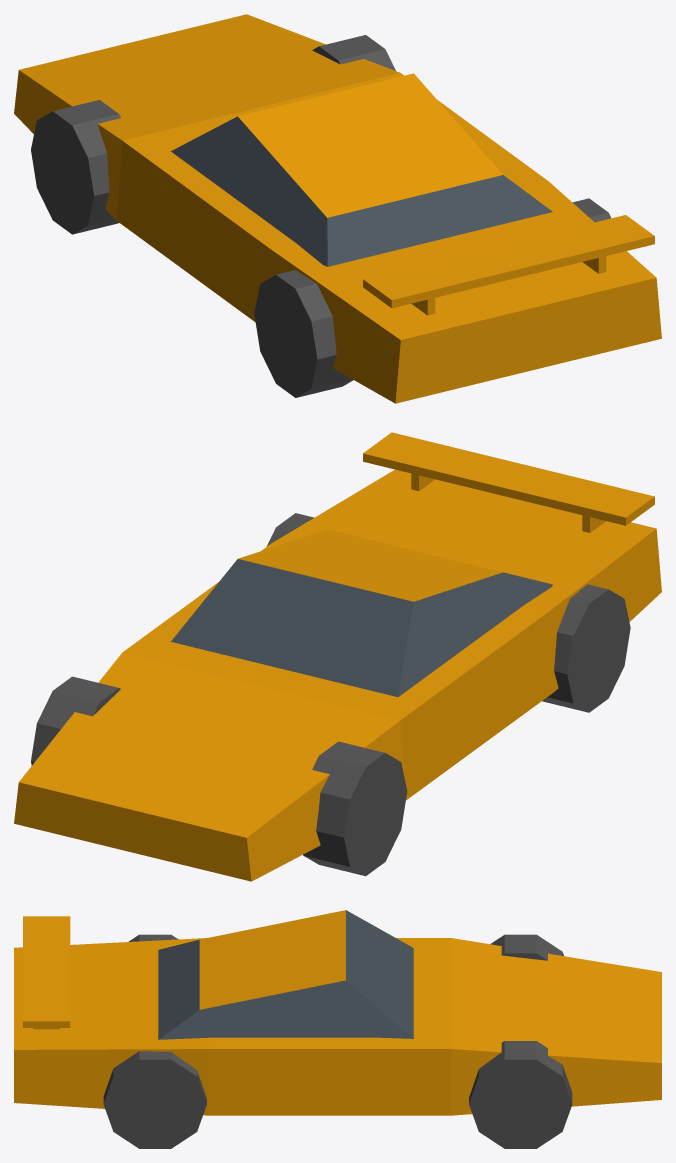
File: sopra.glb
The picture shows the model from 3 angles, top to bottom: view 1: azimuth 30°, elevation 25°; view 2: azimuth 150°, elevation 25°; view 3: azimuth 270°, elevation 25°; orthographic projection. The views are drawn at different scales.
Parts seen in each view (by area): view 1: toyota_supra_body, toyota_supra_Wheel_FL, toyota_supra_Wheel_RL, toyota_supra_Wheel_FR; view 2: toyota_supra_body, toyota_supra_Wheel_FL, toyota_supra_Wheel_RL, toyota_supra_Wheel_FR; view 3: toyota_supra_body, toyota_supra_Wheel_FR, toyota_supra_Wheel_RR, toyota_supra_Wheel_FL.
Boxes of the visible parts, <box> form: toyota_supra_body: <box>14,14,661,403</box>; toyota_supra_Wheel_FL: <box>31,100,120,234</box>; toyota_supra_Wheel_RL: <box>254,270,353,397</box>; toyota_supra_Wheel_FR: <box>312,35,395,70</box>; toyota_supra_body: <box>14,432,661,881</box>; toyota_supra_Wheel_FL: <box>303,741,407,876</box>; toyota_supra_Wheel_RL: <box>542,584,630,712</box>; toyota_supra_Wheel_FR: <box>31,676,120,765</box>; toyota_supra_body: <box>14,910,661,1115</box>; toyota_supra_Wheel_FR: <box>469,1041,572,1148</box>; toyota_supra_Wheel_RR: <box>103,1051,206,1148</box>; toyota_supra_Wheel_FL: <box>490,934,563,960</box>.
Bounding box in the file's own units: 2 × 1.05 × 4.38.
